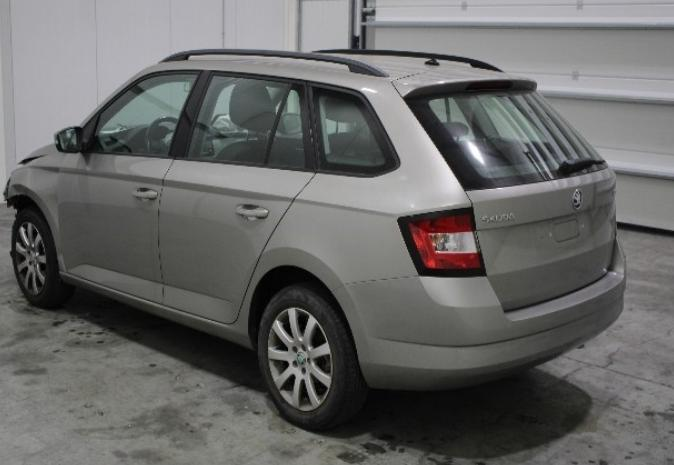Back-bumper: (331, 236, 628, 393)
Back-door: (159, 69, 320, 324)
Back-wheel: (258, 279, 369, 432)
Back-window: (190, 75, 305, 167), (308, 82, 399, 178)
Back-windshield: (404, 88, 608, 191)
Fender: (2, 151, 66, 272)
Front-door: (57, 69, 207, 303)
Front-wheel: (11, 205, 75, 308)
Front-window: (90, 74, 198, 155)
Hood: (17, 142, 58, 163)
License-plate: (525, 212, 598, 261)
Mirror: (54, 125, 88, 153)
Quarter-panel: (229, 171, 472, 332)
Rocker-panel: (59, 272, 254, 351)
Roof: (144, 49, 505, 92)
Tail-light: (396, 207, 488, 276)
Trunk: (466, 165, 617, 312)
